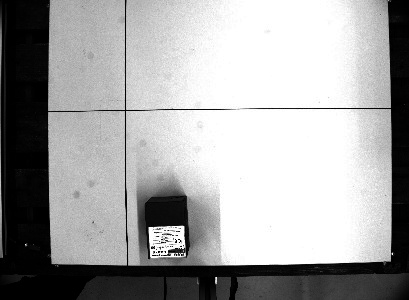b4: (141, 195, 192, 261)
